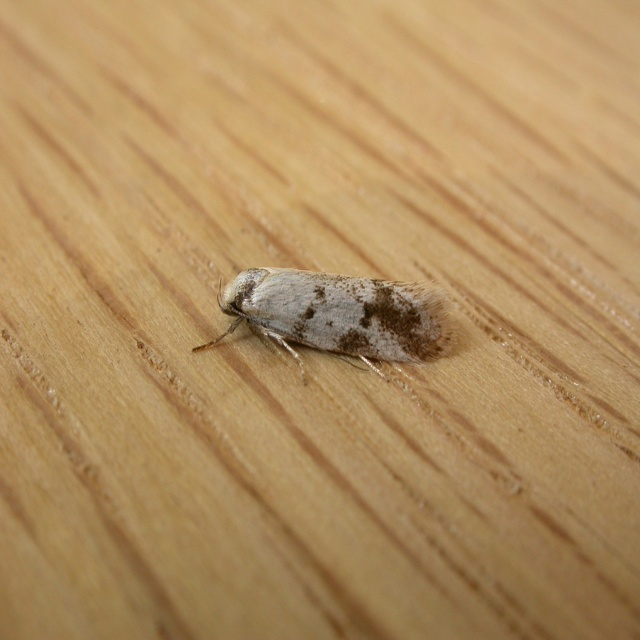Moths and butterflies: (188, 264, 457, 391)
